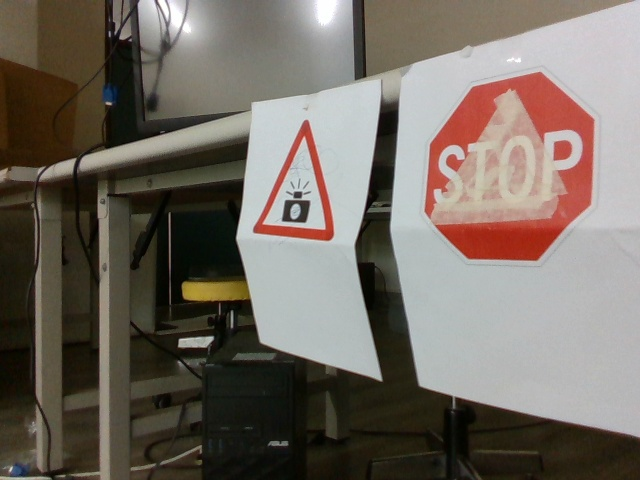camera: (248, 119, 338, 245)
stop: (430, 75, 587, 259)
